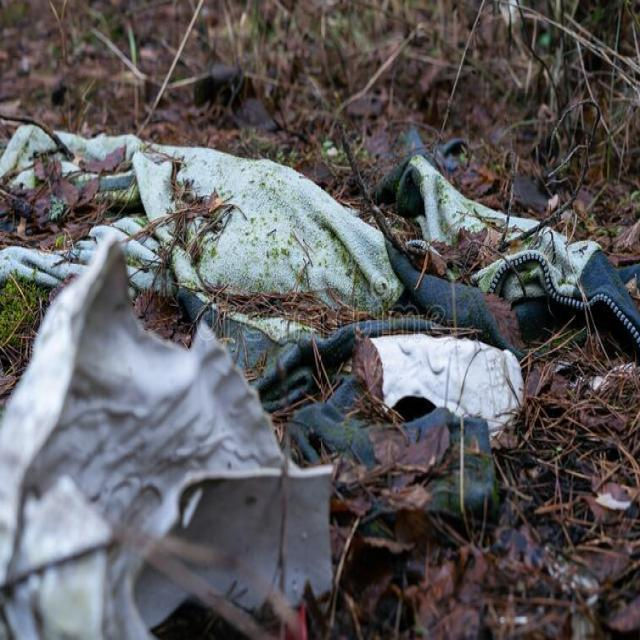clothes: (8, 116, 373, 318), (389, 148, 640, 362)
